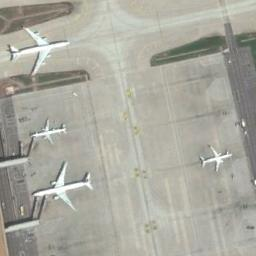Airplane: (4, 20, 78, 80), (30, 160, 98, 214), (197, 140, 234, 173), (28, 116, 71, 144)
